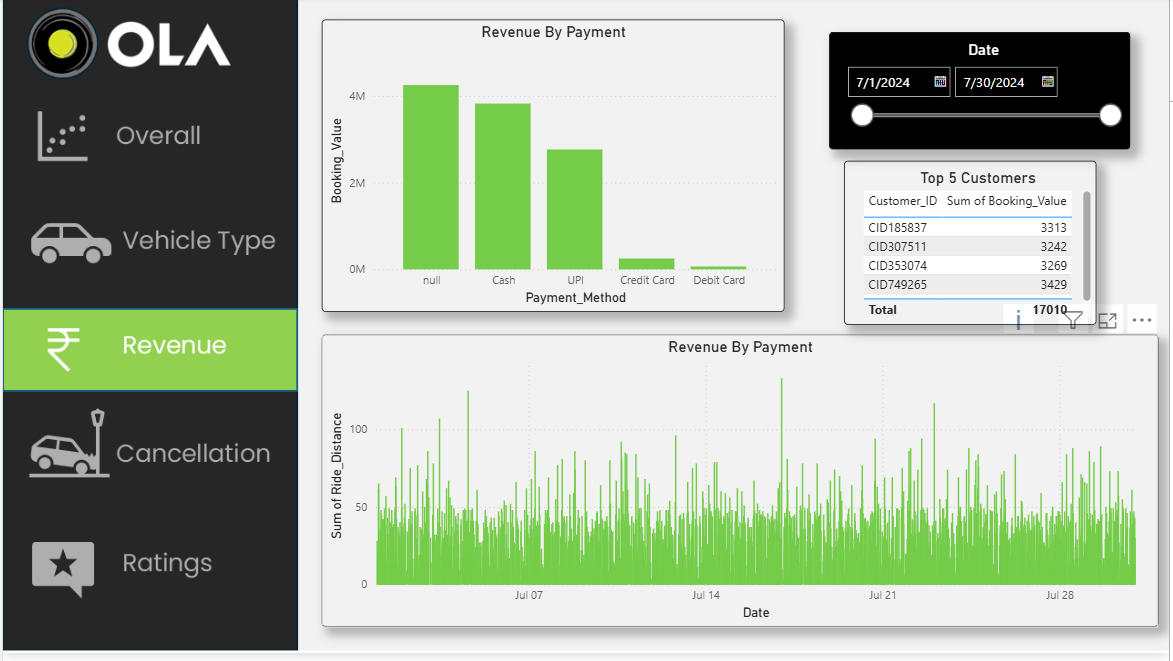

Layout of this report page (visuals, bound fields, positions):
{"tool":"powerbi","page":{"name":"Revenue","canvas":[1280,720],"ordinal":2},"visuals":[{"type":"actionButton","box":[0,575.8,325.3,103.9],"z":0},{"type":"actionButton","box":[0,445.8,325.3,107],"z":1000},{"type":"actionButton","box":[0,222.4,325.3,92.5],"z":2000},{"type":"actionButton","box":[0,102.9,325.3,111.2],"z":3000},{"type":"columnChart","title":"Revenue By Payment","fields":{"Category":["July.Payment_Method"],"Y":["Sum(July.Booking_Value)"]},"box":[349.9,24.7,507.7,321.1],"z":4000},{"type":"columnChart","title":"Revenue By Payment","fields":{"Y":["Sum(July.Ride_Distance)"],"Category":["July.Date"]},"box":[349.9,370.5,918,321.1],"z":5000},{"type":"slicer","title":"Date","fields":{"Values":["July.Date"]},"box":[907,38.4,330.7,129],"z":6000},{"type":"tableEx","title":"Top 5 Customers","fields":{"Values":["July.Customer_ID","Sum(July.Booking_Value)"]},"box":[923.5,179.8,277.2,179.8],"z":7000}]}

Visuals, with their boxes in screenshot pixels (x1, y1, x2, y2), scaled from the page's 1280x720 canvas onto the 1173x661 screenshot:
actionButton: box(0, 529, 298, 624)
actionButton: box(0, 409, 298, 508)
actionButton: box(0, 204, 298, 289)
actionButton: box(0, 94, 298, 197)
"Revenue By Payment" columnChart: box(321, 23, 786, 317)
"Revenue By Payment" columnChart: box(321, 340, 1162, 635)
"Date" slicer: box(831, 35, 1134, 154)
"Top 5 Customers" tableEx: box(846, 165, 1100, 330)
